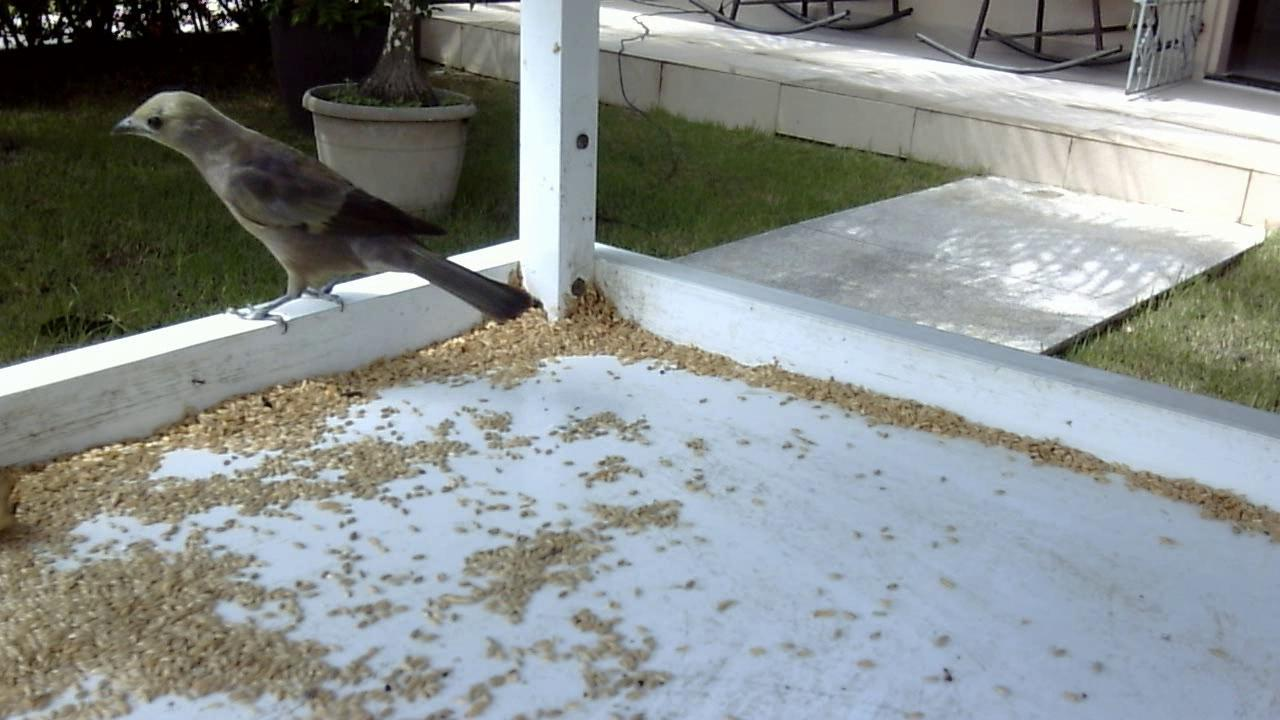sanhaco_do_coqueiro: (105, 92, 539, 343)
